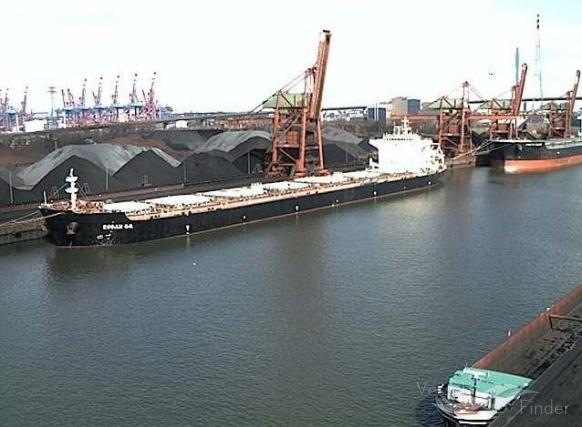OCR: (99, 222, 137, 234)
